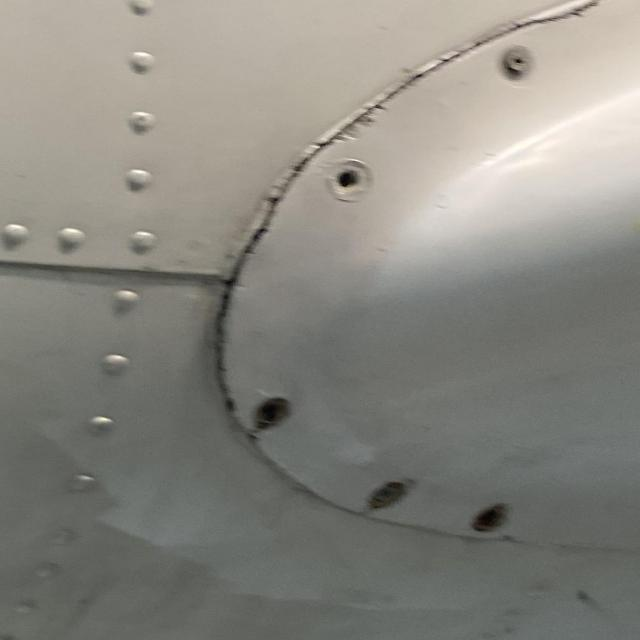Crack: (281, 52, 461, 183), (209, 190, 287, 428), (516, 0, 606, 27)
Missing-head: (331, 162, 373, 199), (256, 395, 297, 432), (472, 504, 513, 535)
